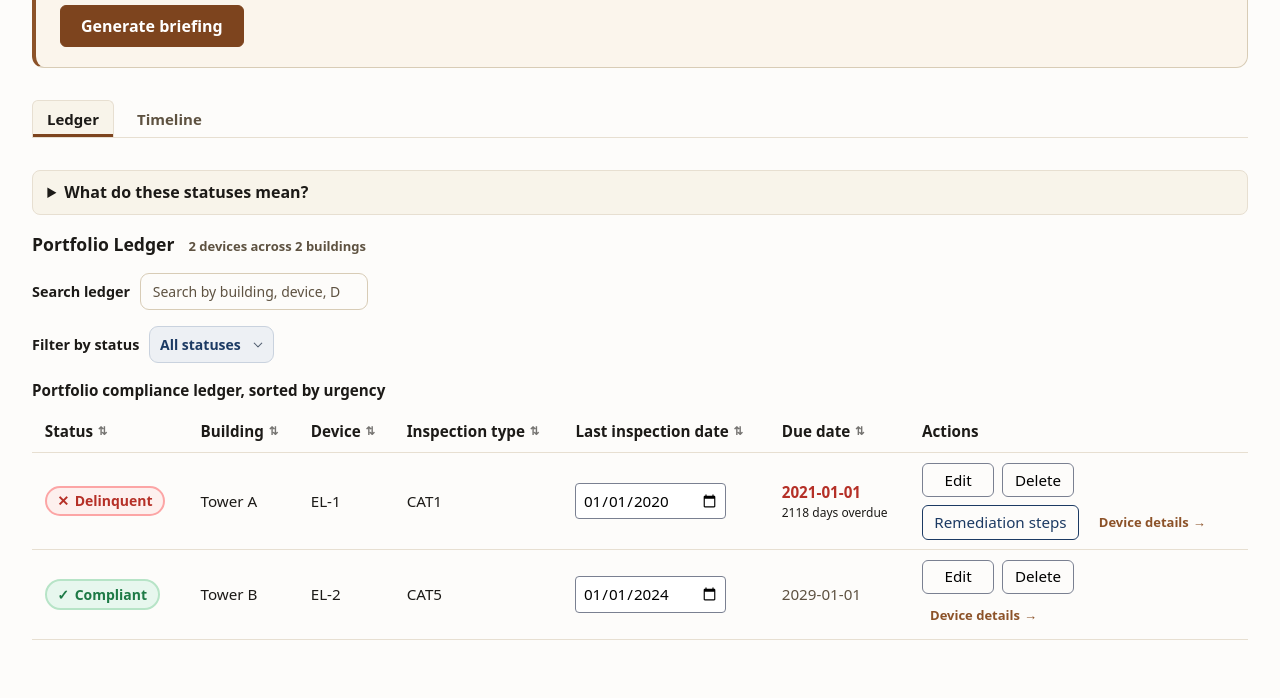
it: App › locks in the intended (discard-on-switch) behavior: switching the Edit target to another row re-primes the form from that row and drops the first row's unsaved
(page scrolled)
Click the button with aria-label "edit el-1": (958, 480) top-left (922, 463), bottom-right (994, 497)
(page scrolled)
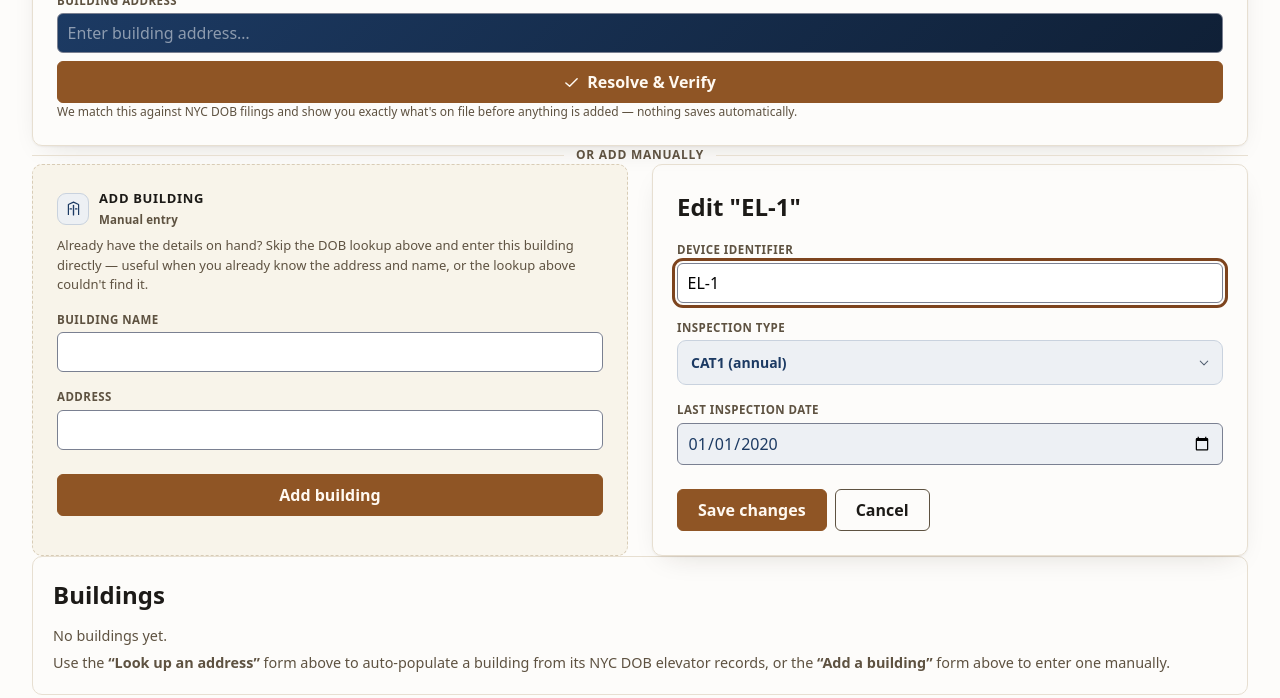
Check: the field labelled "Device identifier" holds "EL-1"
// Make an unsaved edit to row A's device identifier, without saving.
Replace the text in the field labelled "Device identifier" with "EL-1-UNSAVED": (950, 283) top-left (677, 263), bottom-right (1223, 303)
(page scrolled)
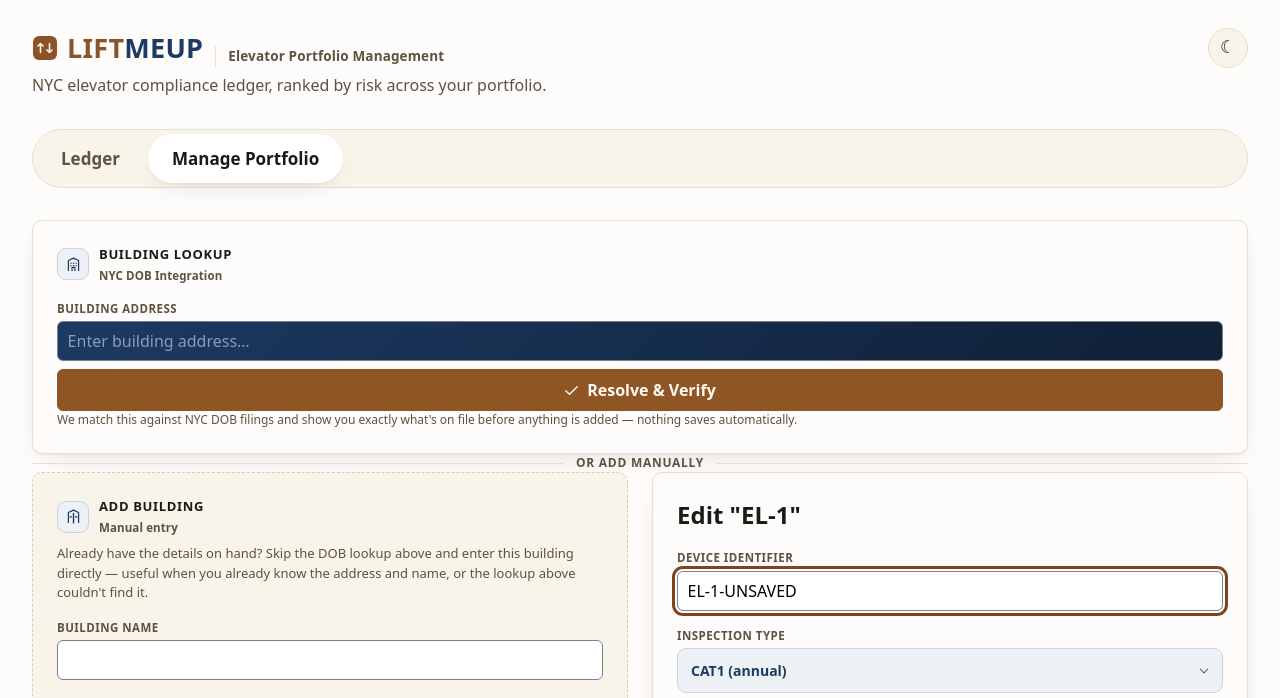
Click the tab "Ledger": (90, 158) top-left (37, 134), bottom-right (144, 183)
(page scrolled)
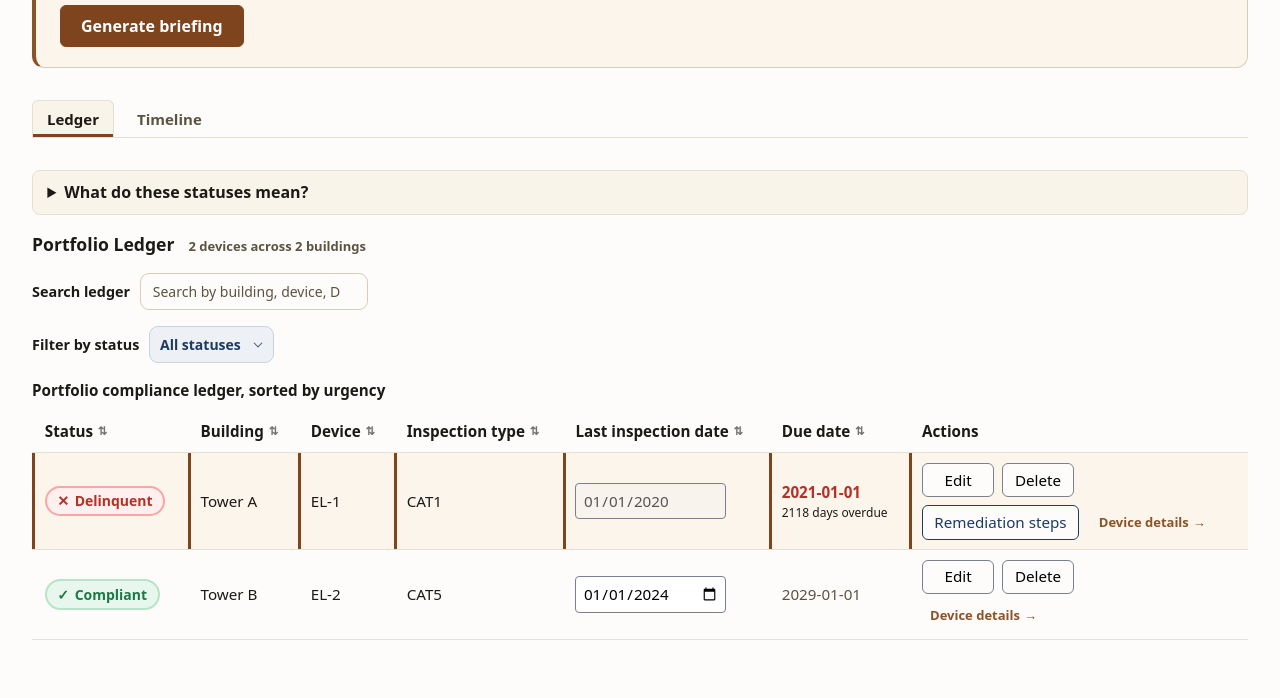
Click the button with aria-label "edit el-2": (958, 577) top-left (922, 560), bottom-right (994, 594)
(page scrolled)
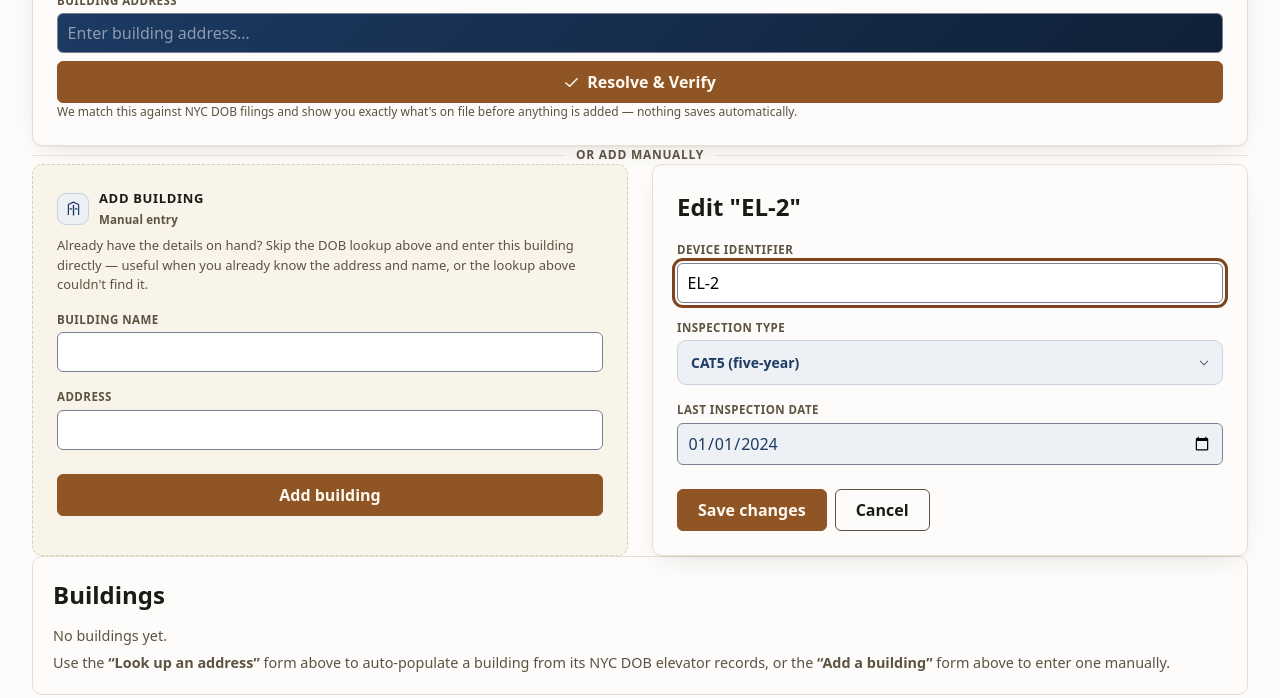
Check: the field labelled "Device identifier" holds "EL-2", box top-left (677, 263), bottom-right (1223, 303)
Check: the dropdown labelled "Inspection type" shows "CAT5 (five-year)", box top-left (677, 340), bottom-right (1223, 385)
Check: the date field labelled "Last inspection date" holds "2024-01-01", box top-left (677, 422), bottom-right (1223, 465)
